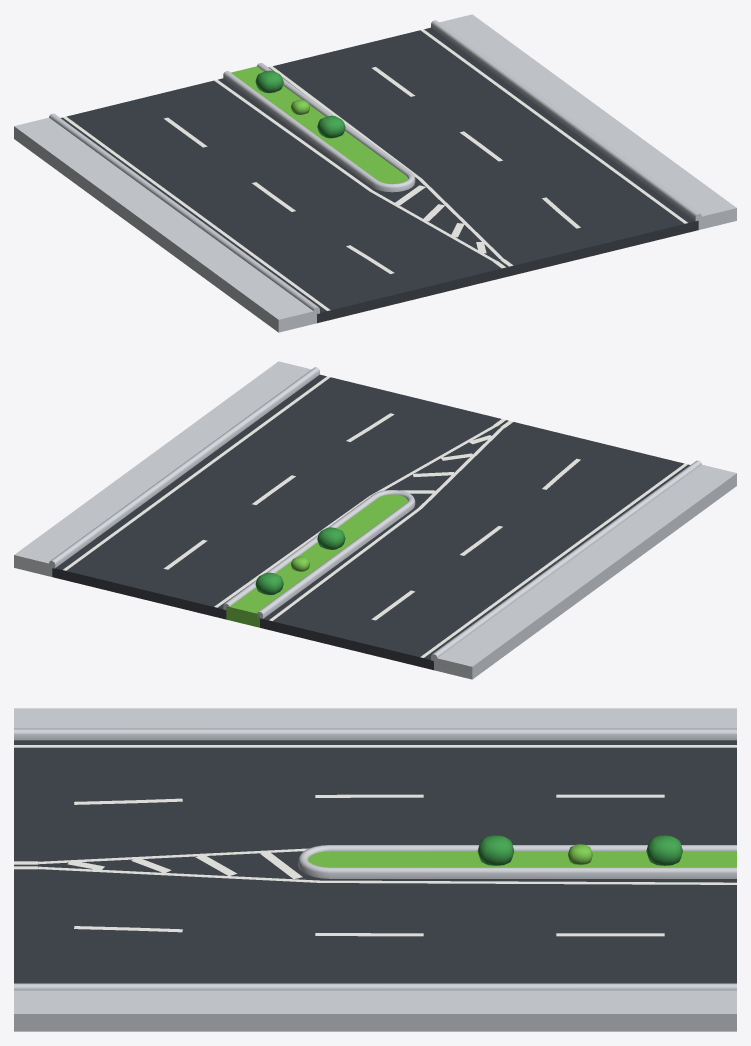
Rendered from avenida_canteiro_inicio.glb.
3 views of the same model, one above another, from view 1: azimuth 30°, elevation 25°; view 2: azimuth 150°, elevation 25°; view 3: azimuth 270°, elevation 25° (orthographic). The views are drawn at different scales.
Parts seen in each view (by area): view 1: avenida_canteiro_inicio; view 2: avenida_canteiro_inicio; view 3: avenida_canteiro_inicio.
Part boxes in pixels (x1,y1,x2,y2): avenida_canteiro_inicio: (14, 14, 736, 332); avenida_canteiro_inicio: (14, 361, 736, 679); avenida_canteiro_inicio: (14, 708, 736, 1031).
Bounding box in the file's own units: 15 × 0.92 × 15.
Materials: 1 (1 with a texture image).
